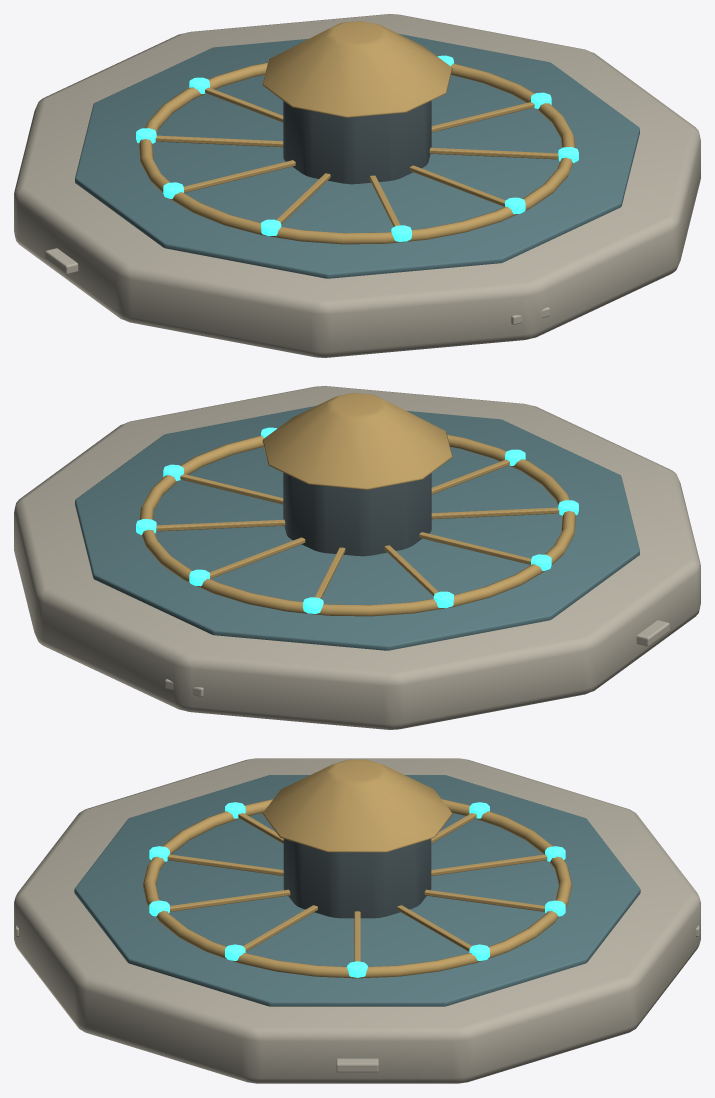
File: oathgate.glb
3 renders of one model, top to bottom at view 1: azimuth 30°, elevation 25°; view 2: azimuth 150°, elevation 25°; view 3: azimuth 270°, elevation 25°, orthographic. The views are drawn at different scales.
Parts seen in each view (by area): view 1: Oathgate_Decagonal_Dais, Oathgate_Inlay, Oathgate_Control_Roof, Oathgate_Control_Room, Oathgate_Brass_Ring, Oathgate_Ray_10, Oathgate_Ray_05, Oathgate_Ray_06, Oathgate_Ray_01, Oathgate_Ray_09, Oathgate_Ray_04, Oathgate_CardinalRamp_3; view 2: Oathgate_Decagonal_Dais, Oathgate_Inlay, Oathgate_Control_Roof, Oathgate_Control_Room, Oathgate_Brass_Ring, Oathgate_Ray_02, Oathgate_Ray_07, Oathgate_Ray_06, Oathgate_Ray_01, Oathgate_Ray_03, Oathgate_Ray_08, Oathgate_CardinalRamp_3; view 3: Oathgate_Decagonal_Dais, Oathgate_Inlay, Oathgate_Control_Roof, Oathgate_Control_Room, Oathgate_Brass_Ring, Oathgate_Ray_03, Oathgate_Ray_09, Oathgate_Ray_04, Oathgate_Ray_08, Oathgate_CardinalRamp_1, Oathgate_Ray_02, Oathgate_Ray_10.
Boxes of the visible parts, bbox=[...] form: Oathgate_Decagonal_Dais: bbox=[14, 14, 700, 357]; Oathgate_Inlay: bbox=[75, 33, 639, 278]; Oathgate_Control_Roof: bbox=[262, 21, 452, 117]; Oathgate_Control_Room: bbox=[283, 101, 431, 184]; Oathgate_Brass_Ring: bbox=[139, 62, 575, 244]; Oathgate_Ray_10: bbox=[429, 147, 558, 159]; Oathgate_Ray_05: bbox=[155, 135, 283, 147]; Oathgate_Ray_06: bbox=[183, 160, 295, 192]; Oathgate_Ray_01: bbox=[431, 102, 534, 132]; Oathgate_Ray_09: bbox=[409, 165, 505, 206]; Oathgate_Ray_04: bbox=[205, 87, 283, 122]; Oathgate_CardinalRamp_3: bbox=[45, 248, 78, 274]; Oathgate_Decagonal_Dais: bbox=[14, 386, 700, 729]; Oathgate_Inlay: bbox=[75, 405, 639, 650]; Oathgate_Control_Roof: bbox=[262, 393, 452, 489]; Oathgate_Control_Room: bbox=[283, 473, 431, 556]; Oathgate_Brass_Ring: bbox=[139, 434, 575, 616]; Oathgate_Ray_02: bbox=[156, 519, 285, 531]; Oathgate_Ray_07: bbox=[431, 507, 559, 519]; Oathgate_Ray_06: bbox=[419, 532, 531, 564]; Oathgate_Ray_01: bbox=[180, 474, 283, 504]; Oathgate_Ray_03: bbox=[209, 537, 305, 578]; Oathgate_Ray_08: bbox=[431, 459, 509, 494]; Oathgate_CardinalRamp_3: bbox=[636, 620, 669, 646]; Oathgate_Decagonal_Dais: bbox=[14, 758, 700, 1083]; Oathgate_Inlay: bbox=[74, 775, 640, 1006]; Oathgate_Control_Roof: bbox=[262, 759, 452, 852]; Oathgate_Control_Room: bbox=[283, 839, 431, 918]; Oathgate_Brass_Ring: bbox=[142, 799, 572, 978]; Oathgate_Ray_03: bbox=[424, 889, 544, 911]; Oathgate_Ray_09: bbox=[170, 889, 290, 911]; Oathgate_Ray_04: bbox=[431, 854, 547, 875]; Oathgate_Ray_08: bbox=[167, 854, 283, 875]; Oathgate_CardinalRamp_1: bbox=[336, 1058, 378, 1072]; Oathgate_Ray_02: bbox=[397, 905, 471, 951]; Oathgate_Ray_10: bbox=[243, 905, 317, 951].
Bounding box in the file's own units: 7.72 × 2.31 × 7.76.
